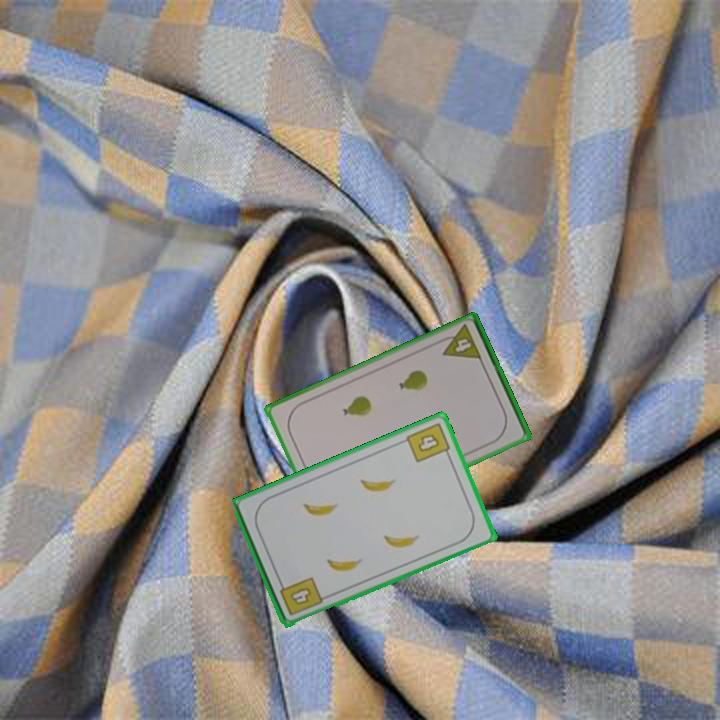4b: (403, 419, 454, 465), (276, 573, 325, 619)
4p: (435, 321, 484, 363)
